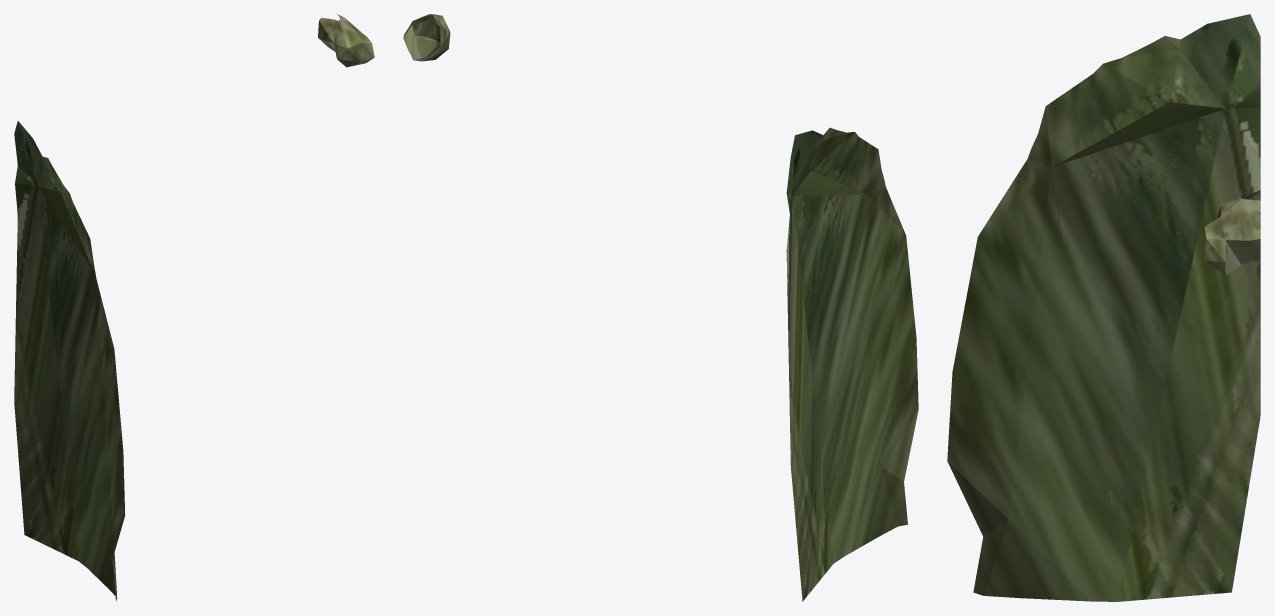
3 views of the same model, side by side, from view 1: azimuth 30°, elevation 25°; view 2: azimuth 150°, elevation 25°; view 3: azimuth 270°, elevation 25° (orthographic). The views are drawn at different scales.
Size of the model in its own units: 2.46 by 2.95 by 1.36.
Materials: 1 (1 with a texture image).
